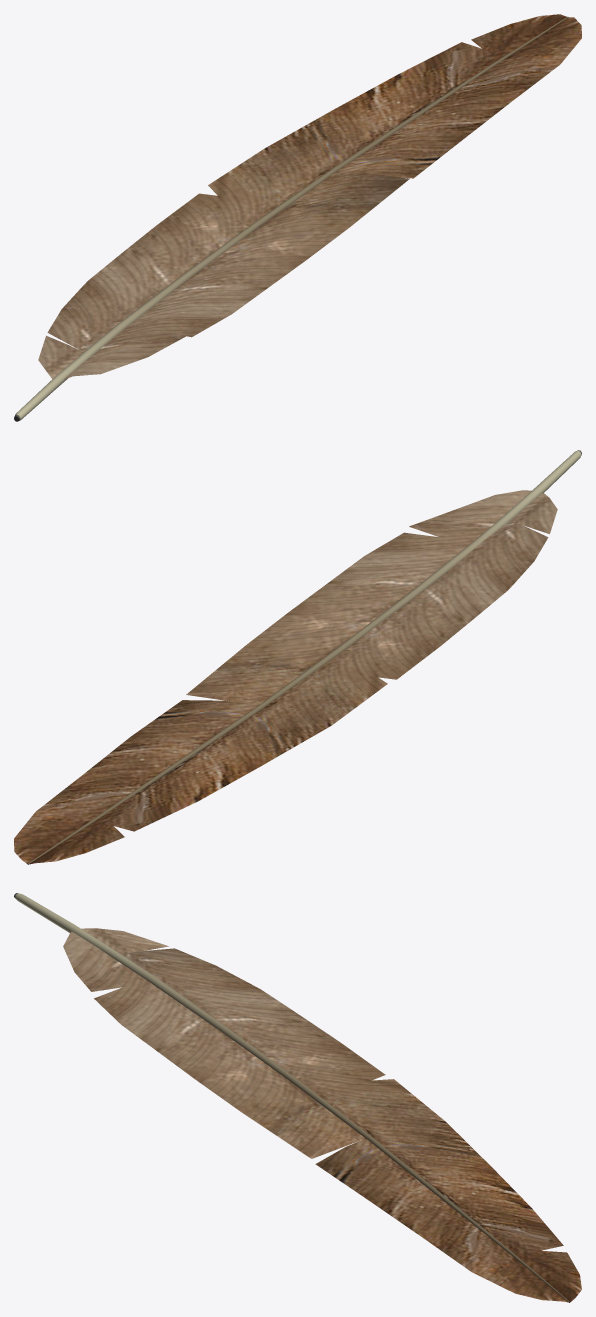
The model's file is feather.fbx.
3 views of the same model, one above another, from view 1: azimuth 30°, elevation 25°; view 2: azimuth 210°, elevation 25°; view 3: azimuth 270°, elevation 25° (orthographic).
Parts seen in each view (by area): view 1: Feather2 Models; view 2: Feather2 Models; view 3: Feather2 Models.
Part boxes in pixels (x1=…): Feather2 Models: x1=14, y1=14, x2=581, y2=421; Feather2 Models: x1=14, y1=450, x2=581, y2=864; Feather2 Models: x1=14, y1=893, x2=581, y2=1302.
Size of the model in its own units: 1813 by 21.48 by 1078.
Materials: 1 (1 with a texture image).
